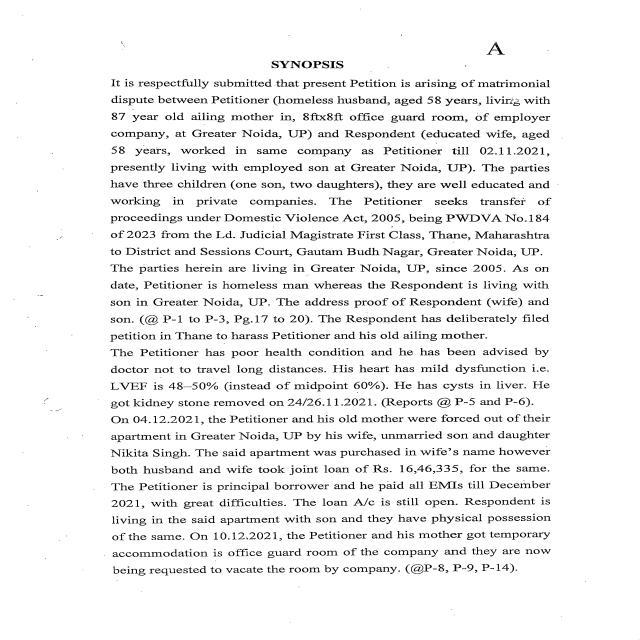page-number: (394, 0, 640, 77)
